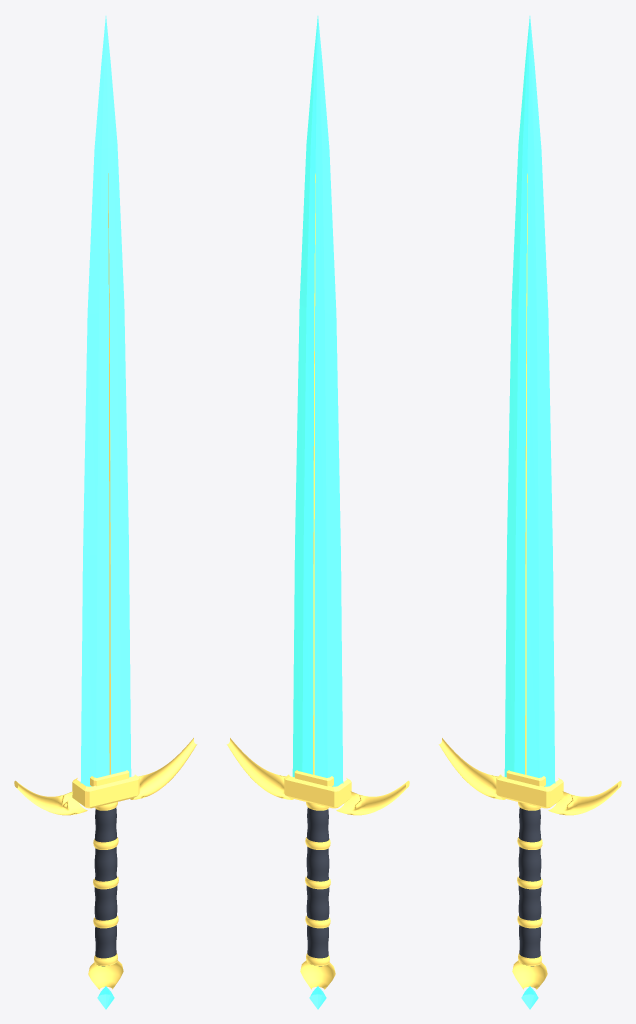
File: tien_kiem.glb
3 views of the same model, side by side, from view 1: azimuth 30°, elevation 25°; view 2: azimuth 150°, elevation 25°; view 3: azimuth 330°, elevation 25° (orthographic).
Visible parts, largest first — view 1: Xianxia_Immortal_Sword_HighRes; view 2: Xianxia_Immortal_Sword_HighRes; view 3: Xianxia_Immortal_Sword_HighRes.
Boxes of the visible parts, x1,y1,x2,y2 form: Xianxia_Immortal_Sword_HighRes: [14, 16, 196, 1009]; Xianxia_Immortal_Sword_HighRes: [227, 16, 409, 1009]; Xianxia_Immortal_Sword_HighRes: [439, 16, 621, 1009].
Size of the model in its own units: 0.312 by 1.65 by 0.056.
